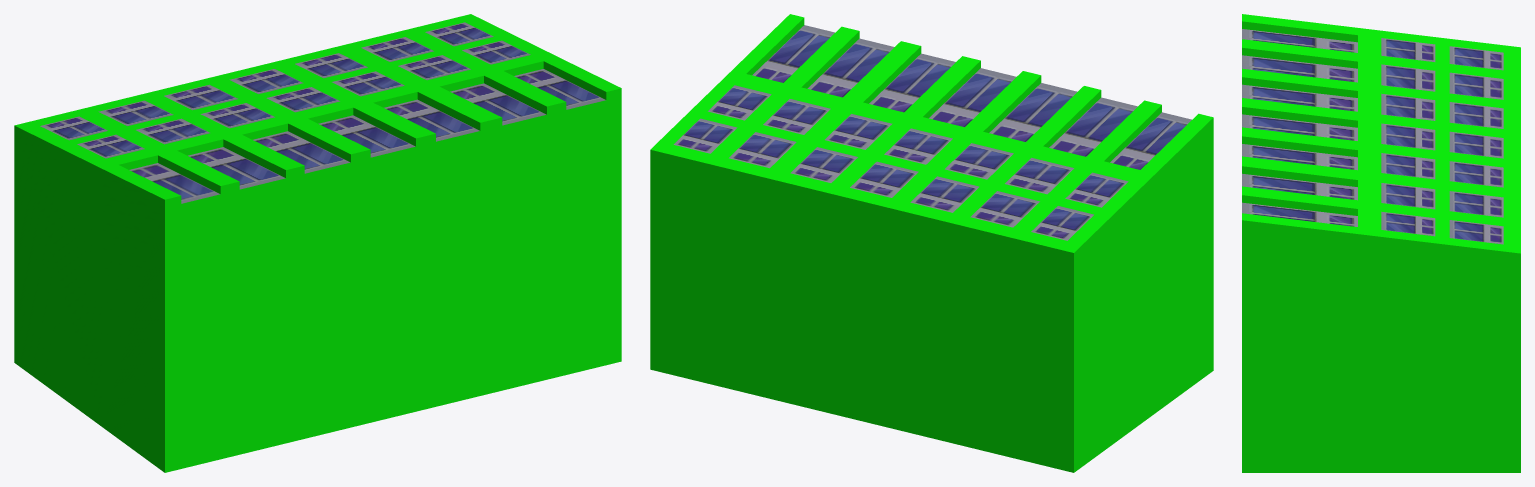
The model's file is building_4s_01.FBX.
3 views of the same model, side by side, from view 1: azimuth 30°, elevation 25°; view 2: azimuth 150°, elevation 25°; view 3: azimuth 270°, elevation 25° (orthographic). The views are drawn at different scales.
Parts seen in each view (by area): view 1: building_4s_01; view 2: building_4s_01; view 3: building_4s_01.
Part boxes in pixels (x1,y1,x2,y2): building_4s_01: (14, 14, 621, 472); building_4s_01: (650, 14, 1213, 472); building_4s_01: (1242, 14, 1520, 472).
Bounding box in the file's own units: 28 × 16 × 16.
